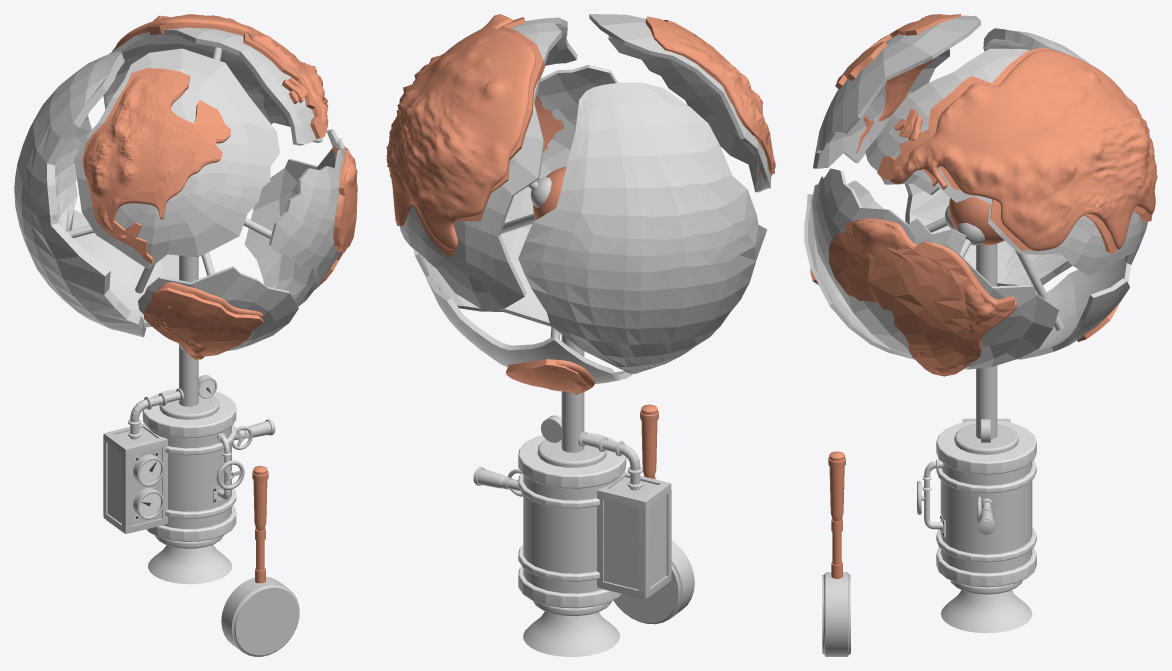
The model's file is Globe.fbx.
3 renders of one model, left to right at view 1: azimuth 30°, elevation 25°; view 2: azimuth 150°, elevation 25°; view 3: azimuth 270°, elevation 25°, orthographic. The views are drawn at different scales.
Visible parts, largest first — view 1: NorthAmerica_Continent, Pacific, Africa_Continent, Barrel, North_America, Base (×2), Eurasia_Continent, NorthAmerica_LowPoly, SouthAmerica_LowPoly, Box, SouthAmerica_Continent, Australia_Continent (+10 smaller); view 2: Pacific, Eurasia, Barrel, Eurasia_Continent, Box, NorthAmerica_Continent, Africa_Continent, Base (×2), Australia_Continent, North_America, Eurasia_LowPoly, Australia_LowPoly (+8 smaller); view 3: Eurasia, Barrel, Africa_LowPoly, Africa_Continent, NorthAmerica_Continent, Eurasia_Continent, Base (×2), Pacific, Australia_Continent, Africa, Eurasia_LowPoly, SouthAmerica_Continent (+7 smaller).
Part boxes in pixels (x1,y1,x2,y2): NorthAmerica_Continent: (74, 48, 279, 269); Pacific: (14, 51, 146, 337); Africa_Continent: (244, 129, 345, 306); Barrel: (142, 389, 236, 548); North_America: (84, 75, 228, 263); Base (×2): (148, 544, 299, 656); Eurasia_Continent: (103, 27, 327, 145); NorthAmerica_LowPoly: (82, 68, 230, 264); SouthAmerica_LowPoly: (144, 287, 263, 356); Box: (103, 423, 167, 533); SouthAmerica_Continent: (138, 266, 298, 351); Australia_Continent: (69, 209, 178, 327); Pacific: (518, 82, 767, 374); Eurasia: (386, 14, 535, 250); Barrel: (518, 432, 626, 616); Eurasia_Continent: (399, 17, 577, 309); Box: (597, 472, 671, 598); NorthAmerica_Continent: (589, 14, 771, 192); Africa_Continent: (413, 64, 619, 326); Base (×2): (523, 540, 694, 656); Australia_Continent: (426, 275, 631, 383); North_America: (657, 24, 775, 181); Eurasia_LowPoly: (395, 17, 544, 257); Australia_LowPoly: (505, 359, 590, 391); Eurasia: (889, 49, 1157, 250); Barrel: (936, 420, 1036, 594); Africa_LowPoly: (828, 219, 1015, 376); Africa_Continent: (811, 168, 1058, 369); NorthAmerica_Continent: (813, 15, 980, 168); Eurasia_Continent: (865, 48, 1147, 275); Base (×2): (822, 572, 1032, 656); Pacific: (904, 28, 1090, 286); Australia_Continent: (1017, 257, 1131, 359); Africa: (849, 218, 1017, 374); Eurasia_LowPoly: (877, 47, 1152, 254); SouthAmerica_Continent: (804, 180, 914, 359).
Size of the model in its own units: 0.0807 by 0.1472 by 0.0772.
